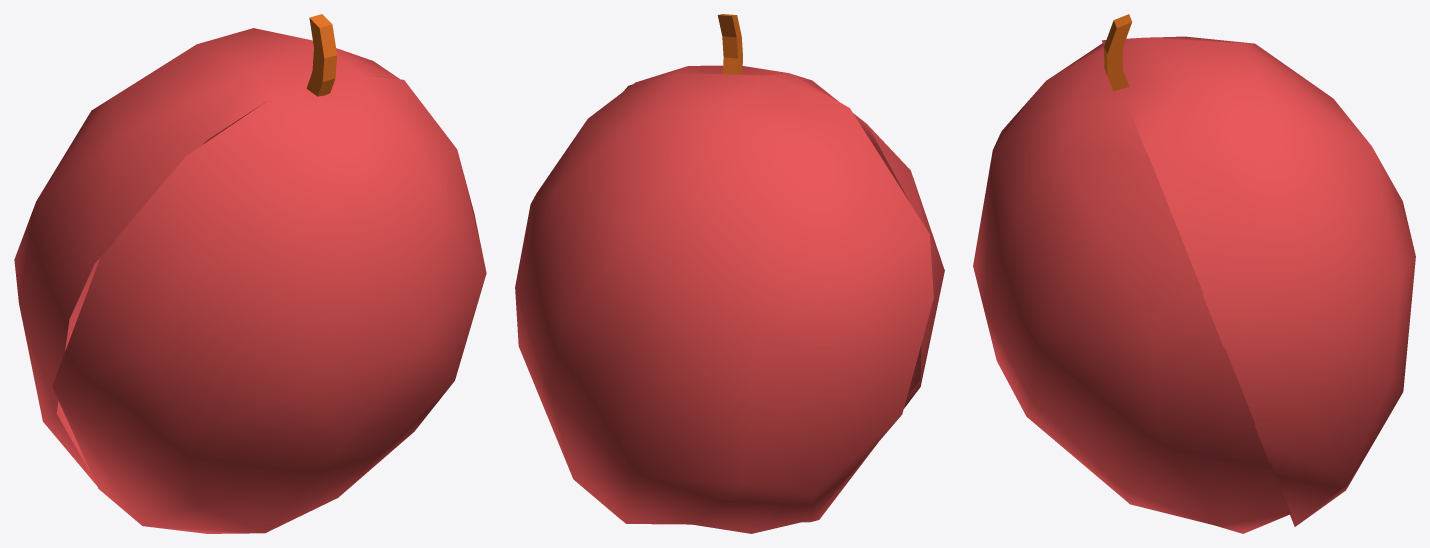
File: Apple Final.fbx
3 views of the same model, side by side, from view 1: azimuth 30°, elevation 25°; view 2: azimuth 150°, elevation 25°; view 3: azimuth 270°, elevation 25° (orthographic). The views are drawn at different scales.
Parts seen in each view (by area): view 1: Apple, Stem; view 2: Apple, Stem; view 3: Apple, Stem.
Part boxes in pixels (left/top/right/bottom): Apple: left=14, top=28, right=486, bottom=533; Stem: left=306, top=14, right=336, bottom=96; Apple: left=515, top=65, right=944, bottom=533; Stem: left=717, top=14, right=742, bottom=74; Apple: left=973, top=36, right=1415, bottom=533; Stem: left=1104, top=14, right=1131, bottom=91.
Size of the model in its own units: 22.6 by 27.43 by 21.6.
